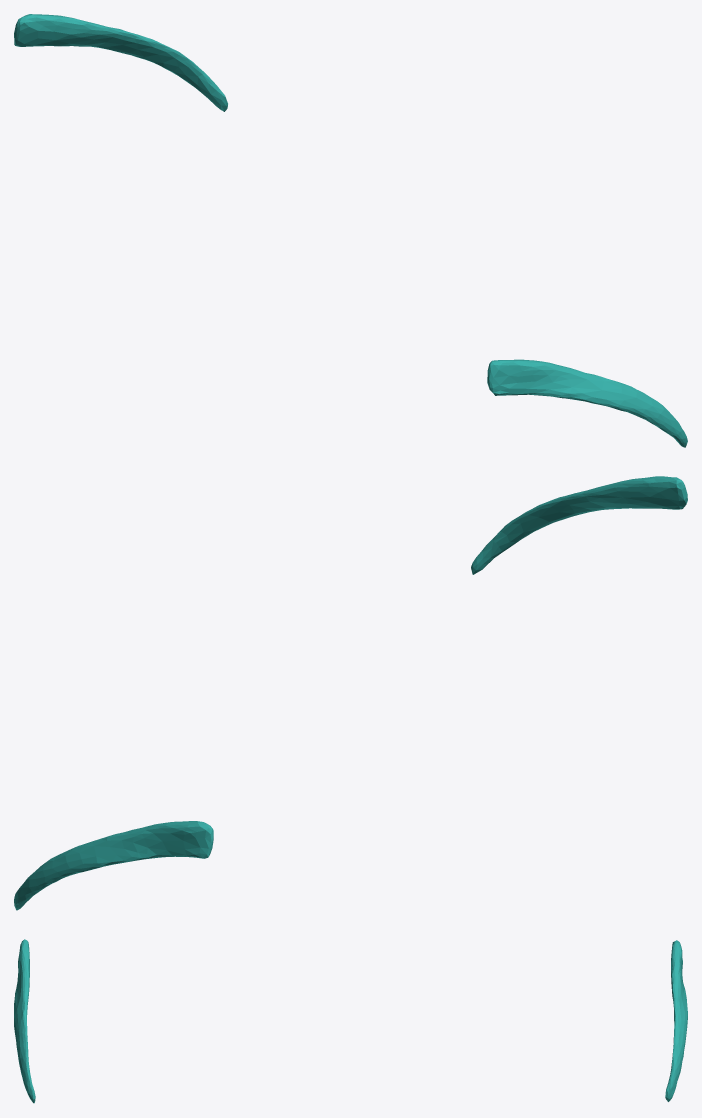
The picture shows the model from 3 angles, top to bottom: view 1: azimuth 30°, elevation 25°; view 2: azimuth 150°, elevation 25°; view 3: azimuth 270°, elevation 25°; orthographic projection. The views are drawn at different scales.
Parts seen in each view (by area): view 1: 836.obj; view 2: 836.obj; view 3: 836.obj.
Boxes of the visible parts, <box> form: 836.obj: <box>14,14,687,447</box>; 836.obj: <box>14,476,687,910</box>; 836.obj: <box>14,939,687,1103</box>.
Bounding box in the file's own units: 2506 × 1615 × 10198.
